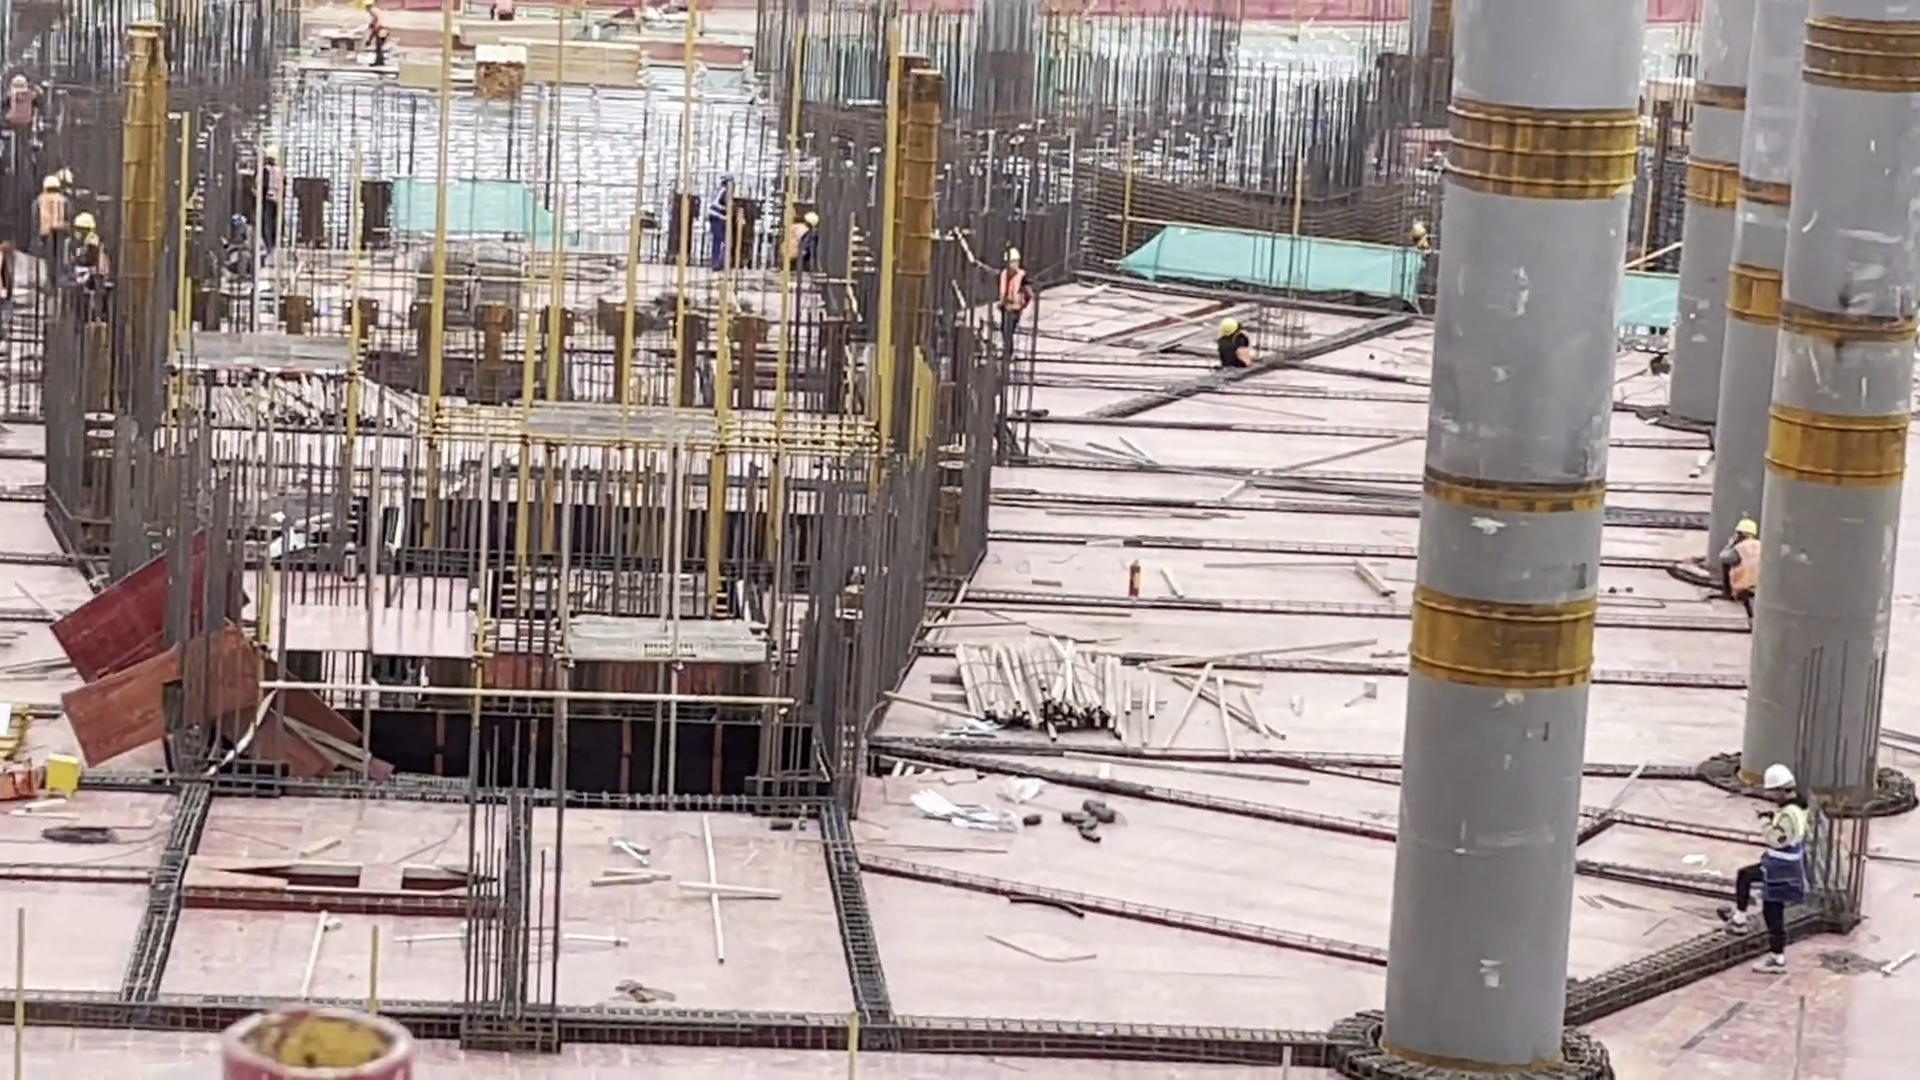helmet: (1759, 764, 1802, 793), (9, 74, 37, 93), (1216, 318, 1243, 338), (74, 212, 98, 231), (1738, 517, 1758, 538), (42, 175, 64, 193), (804, 206, 819, 228), (1004, 245, 1021, 263), (228, 214, 247, 226)
person: (1722, 757, 1808, 984), (974, 233, 1042, 370), (1712, 512, 1771, 624), (73, 208, 119, 309), (763, 199, 819, 282), (253, 148, 295, 251), (358, 4, 399, 81), (38, 175, 72, 269), (706, 172, 736, 275), (1209, 314, 1256, 372), (223, 212, 265, 271), (3, 72, 33, 154)
scaffold: (950, 622, 1170, 768)
vest: (1761, 806, 1807, 891), (1725, 536, 1764, 594), (995, 266, 1028, 317), (38, 194, 67, 235), (789, 223, 806, 261)
